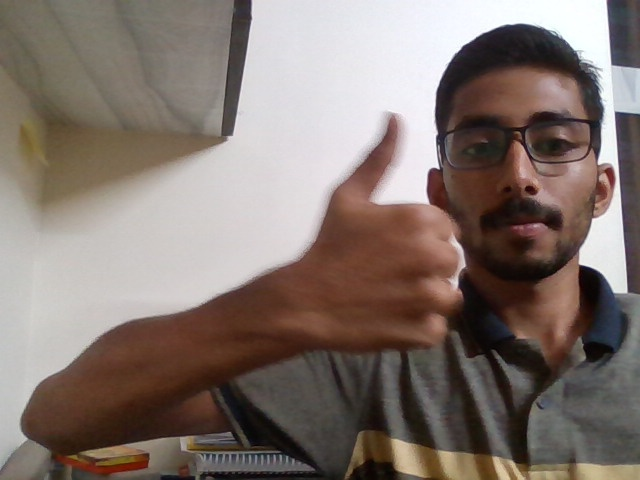Yes: (262, 96, 471, 390)
